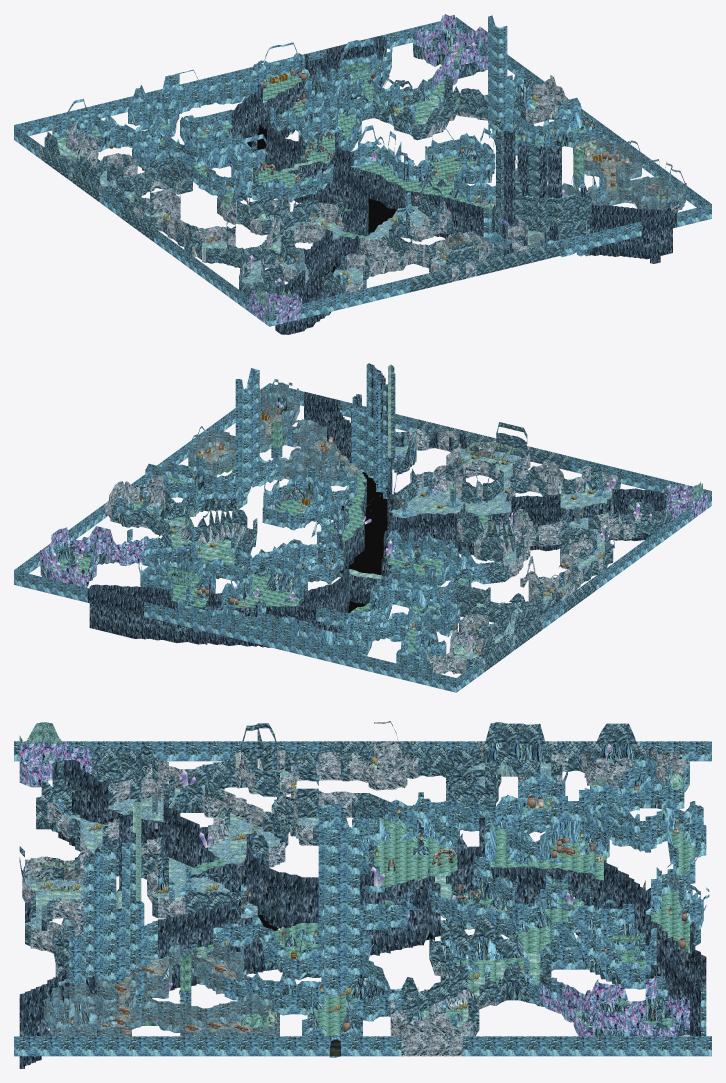
The model's file is map.gltf.
The picture shows the model from 3 angles, top to bottom: view 1: azimuth 30°, elevation 25°; view 2: azimuth 150°, elevation 25°; view 3: azimuth 270°, elevation 25°; orthographic projection. The views are drawn at different scales.
Bounding box in the file's own units: 126 × 45.5 × 126.
35 materials, 35 textured.
